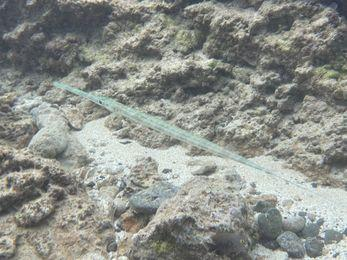Fistularia commersonii: (34, 71, 282, 188)
